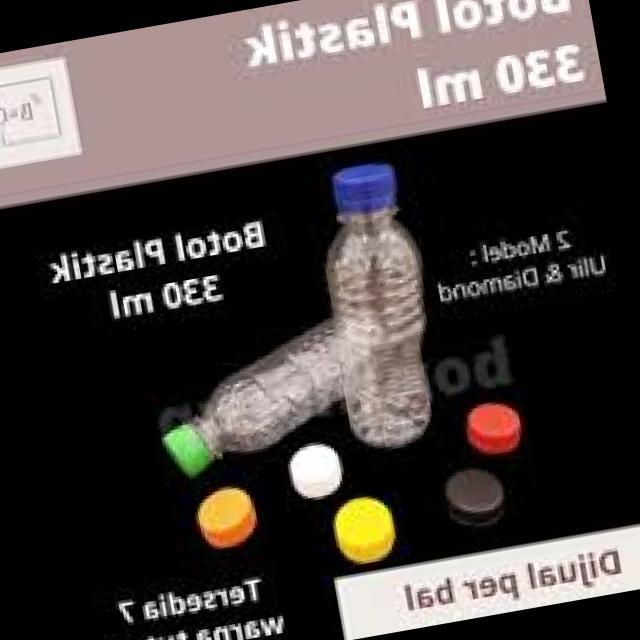good: (264, 126, 500, 464), (104, 258, 414, 496)
